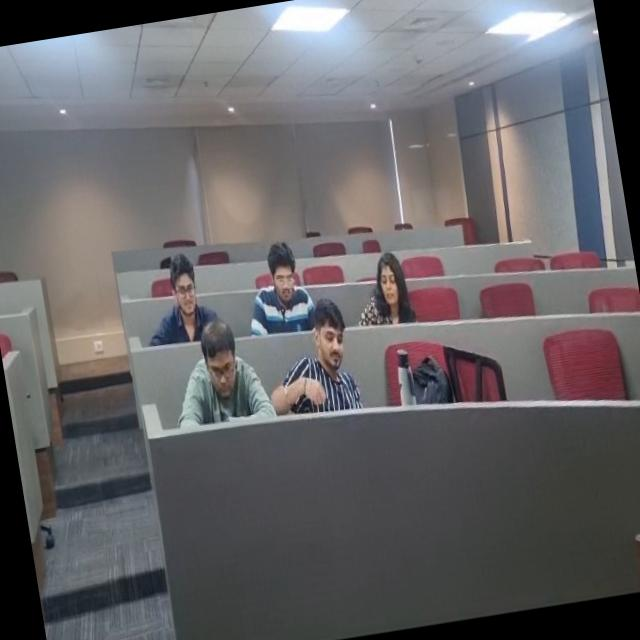cheating: (280, 283, 372, 418)
non-cheating: (167, 321, 276, 442), (348, 248, 428, 345), (243, 230, 319, 332), (141, 244, 218, 336)
